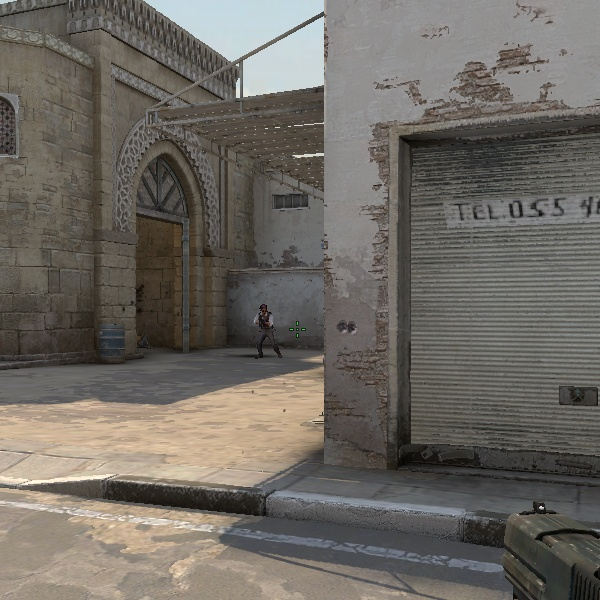t_body: (251, 303, 280, 357)
t_head: (259, 304, 268, 316)
